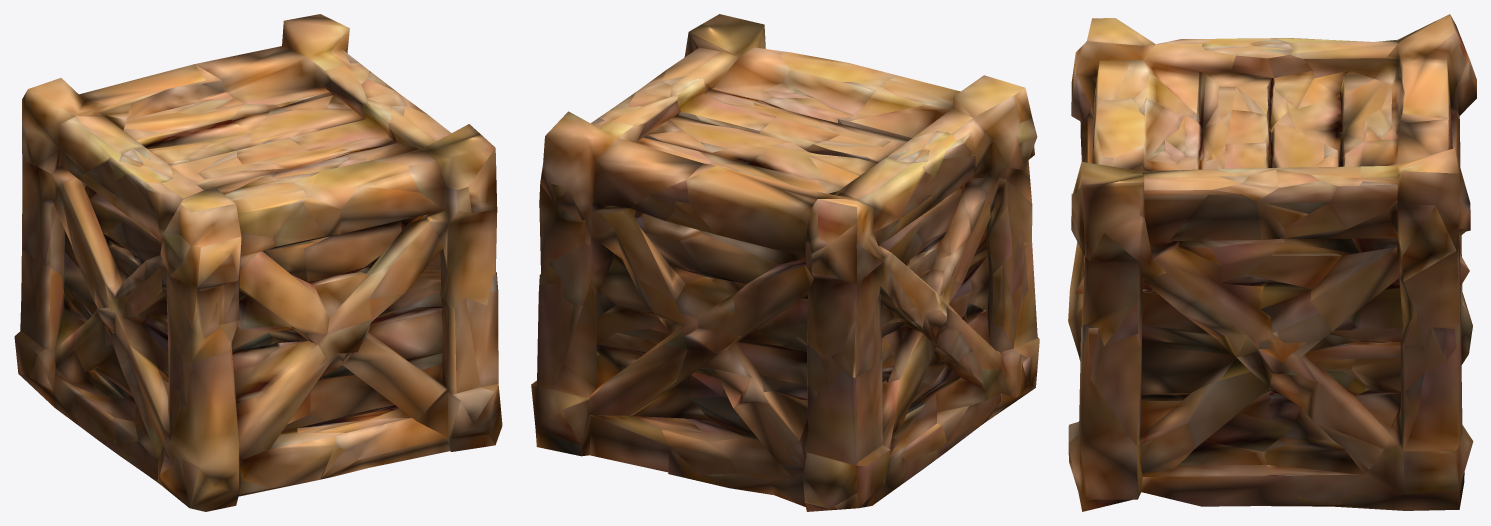
Rendered from crate.glb.
The picture shows the model from 3 angles, left to right: view 1: azimuth 30°, elevation 25°; view 2: azimuth 150°, elevation 25°; view 3: azimuth 270°, elevation 25°; orthographic projection. The views are drawn at different scales.
Visible parts, largest first — view 1: tripo_node_37a2d716-d74a-4012-a2df-acbd2365a0bb; view 2: tripo_node_37a2d716-d74a-4012-a2df-acbd2365a0bb; view 3: tripo_node_37a2d716-d74a-4012-a2df-acbd2365a0bb.
Boxes of the visible parts, x1,y1,x2,y2 form: tripo_node_37a2d716-d74a-4012-a2df-acbd2365a0bb: (14, 14, 502, 511); tripo_node_37a2d716-d74a-4012-a2df-acbd2365a0bb: (531, 14, 1039, 511); tripo_node_37a2d716-d74a-4012-a2df-acbd2365a0bb: (1068, 14, 1476, 511).
Size of the model in its own units: 0.9512 by 0.859 by 0.9326.
1 material, 1 textured.
